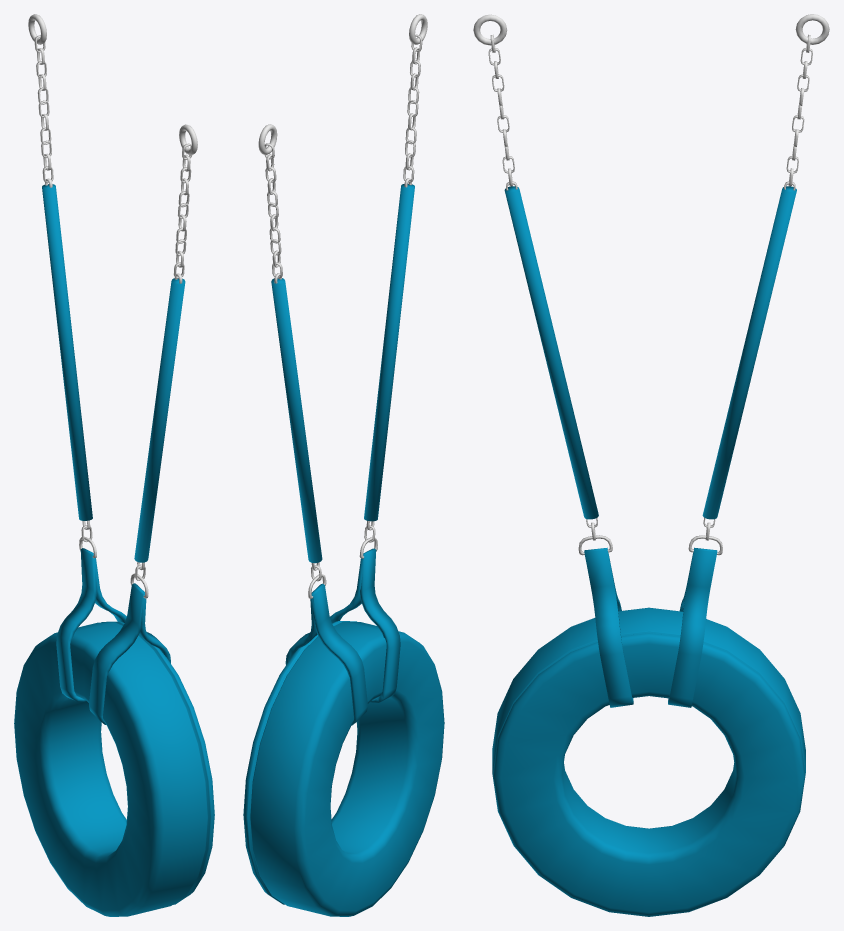
Rendered from Vinyl Tire Swing.glb.
3 renders of one model, left to right at view 1: azimuth 30°, elevation 25°; view 2: azimuth 150°, elevation 25°; view 3: azimuth 270°, elevation 25°, orthographic. The views are drawn at different scales.
Visible parts, largest first — view 1: Circle011,_colorize_, Circle011_1,_colorize_, Circle011_2, Torus; view 2: Circle011,_colorize_, Circle011_1,_colorize_, Circle011_2, Torus; view 3: Circle011,_colorize_, Circle011_1,_colorize_, Circle011_2, Torus.
Part boxes in pixels (x1,y1,x2,y2): Circle011,_colorize_: (14, 184, 214, 916); Circle011_1,_colorize_: (56, 548, 170, 724); Circle011_2: (34, 35, 192, 598); Torus: (28, 14, 197, 155); Circle011,_colorize_: (243, 183, 444, 916); Circle011_1,_colorize_: (285, 548, 400, 725); Circle011_2: (264, 34, 422, 598); Torus: (258, 14, 427, 154); Circle011,_colorize_: (492, 186, 805, 916); Circle011_1,_colorize_: (584, 547, 717, 707); Circle011_2: (488, 34, 812, 555); Torus: (473, 14, 829, 45).
Bounding box in the file's own units: 0.1624 × 1.91 × 0.6925.
